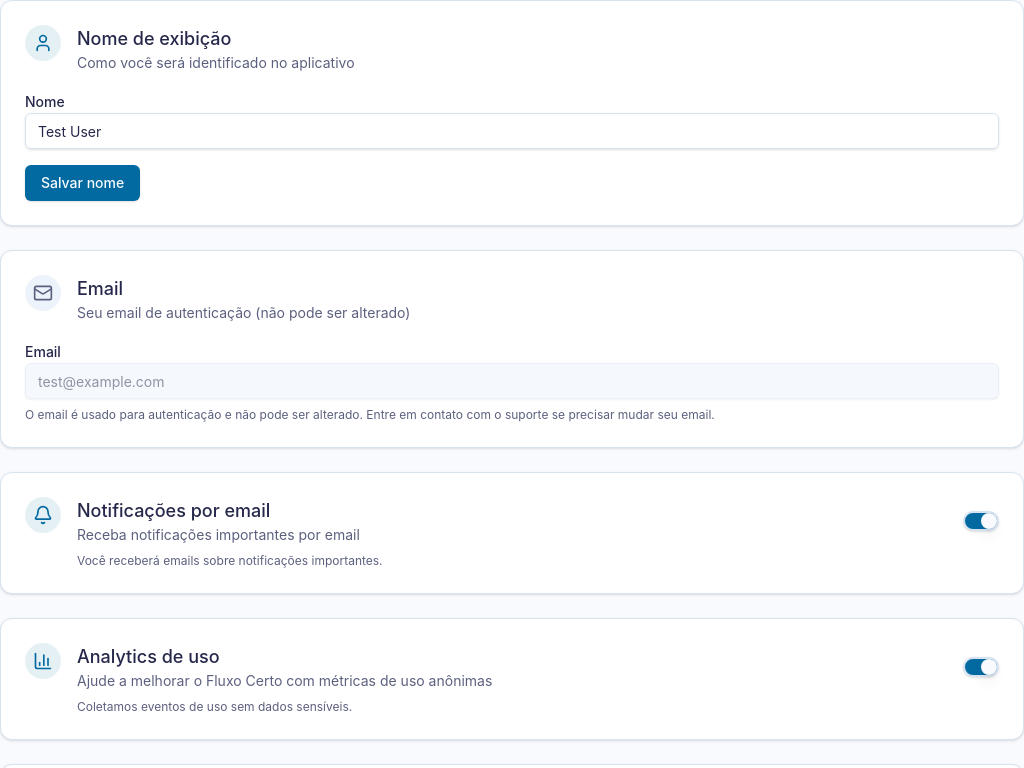
ProfileSettingsForm › validation › clears validation error when user types valid name
Clear the field labelled "Nome" at (512, 131), box top-left (25, 113), bottom-right (999, 149)
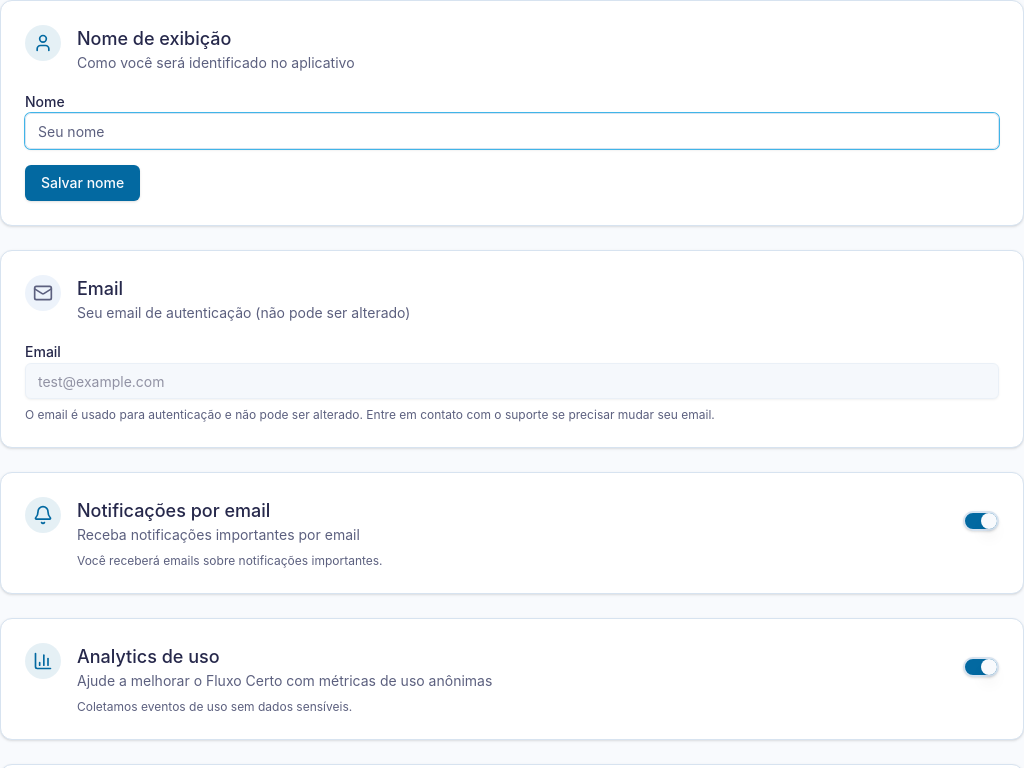
Click the button "Salvar nome" at (83, 183), box top-left (25, 165), bottom-right (140, 201)
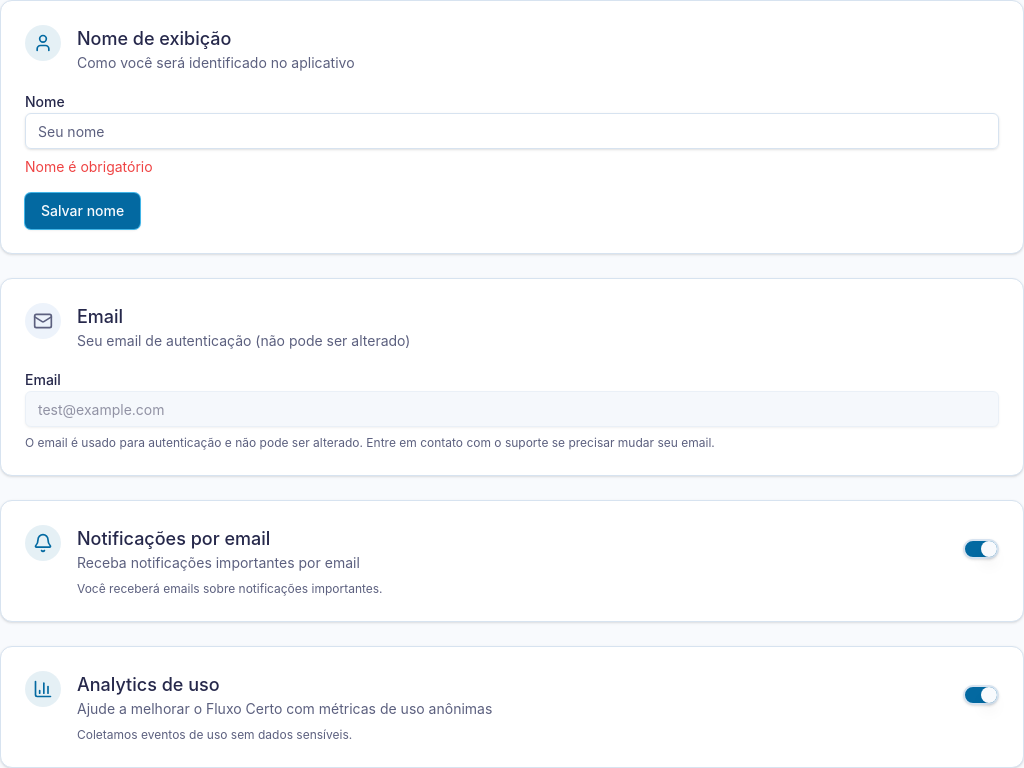
Expected: the text "Nome é obrigatório" is shown, top-left (25, 158), bottom-right (153, 175)
Type "Valid Name" into the field labelled "Nome" at (512, 131), box top-left (25, 113), bottom-right (999, 149)
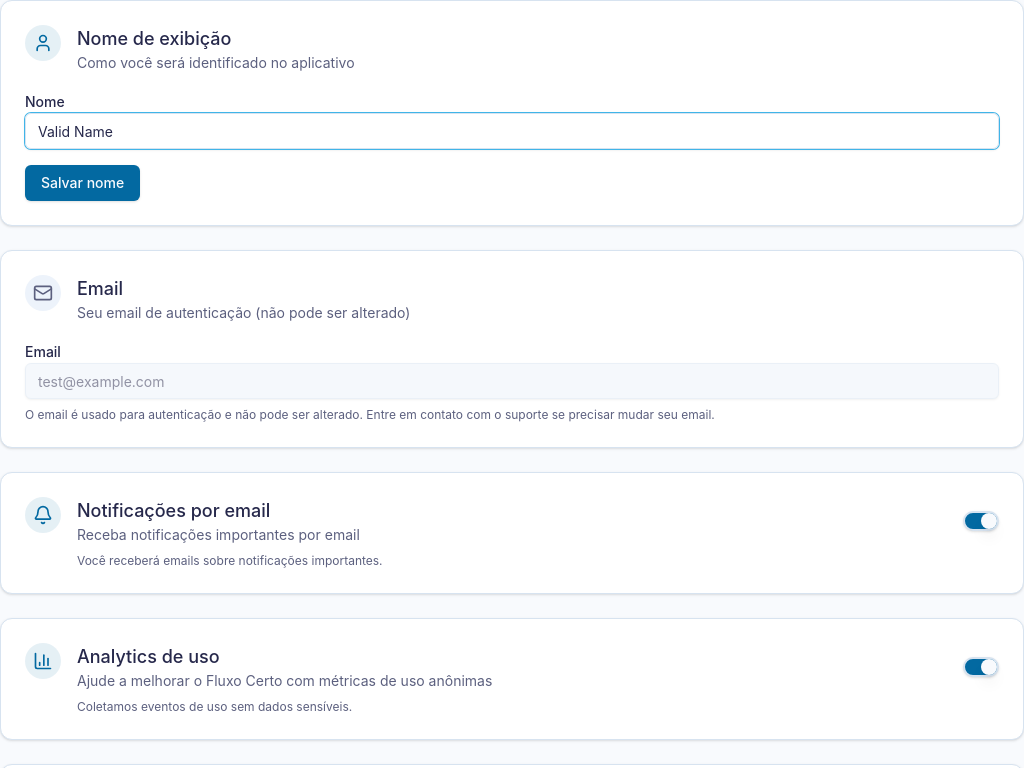
Expected: the text "Nome é obrigatório" is gone
